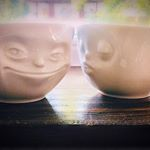cups: (1, 20, 75, 107), (77, 19, 150, 103)
